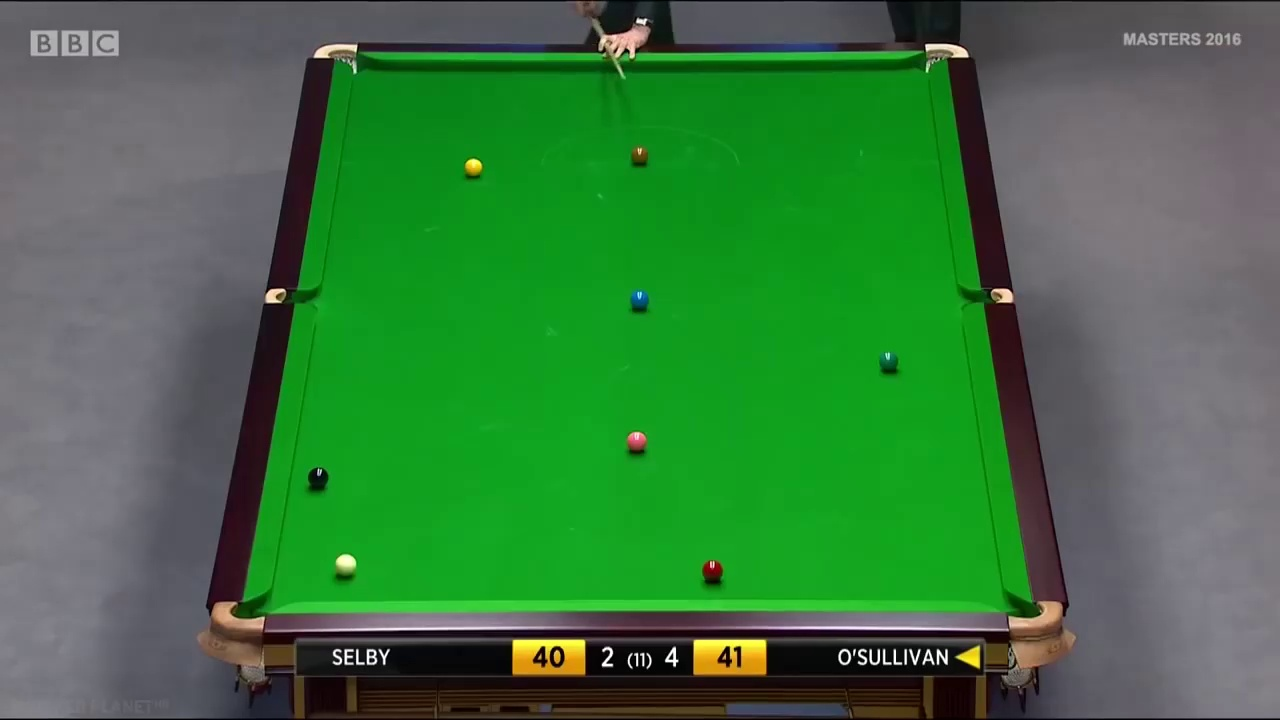ball: (701, 556, 725, 585), (307, 465, 329, 490), (626, 430, 648, 455), (460, 157, 483, 179), (334, 554, 356, 577), (630, 289, 650, 311), (881, 350, 899, 371), (633, 146, 648, 166)
